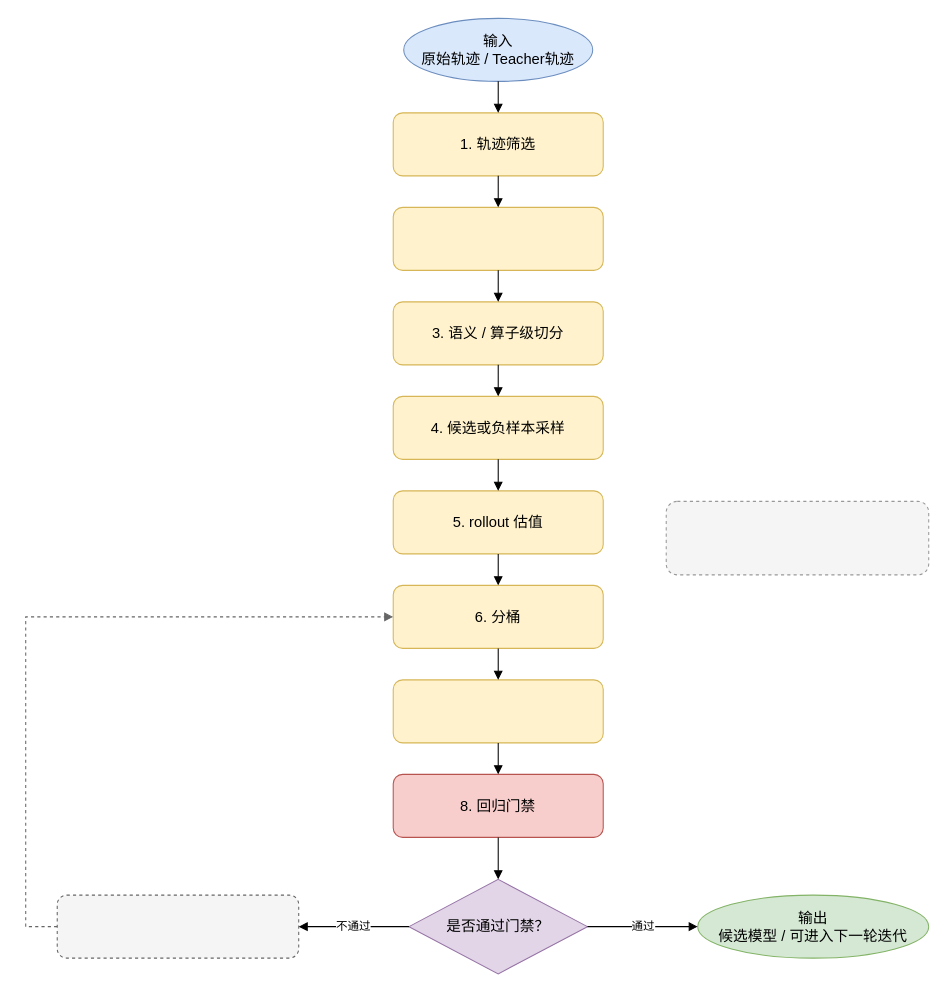
Some shapes in this 947 by 992 pixel diagram are drawn without their labels. Here are the shapes that lost their labels. From the top down, the centre of each, then its label:
pixel 497 238: 2. 基线跑批
pixel 797 537: 备注：可在 rollout 前加入 局部规则初筛 / 短程评估以控制成本
pixel 497 711: 7. 训练
pixel 177 926: 不通过：返回分桶 / 训练 或回溯数据构建环节继续迭代
